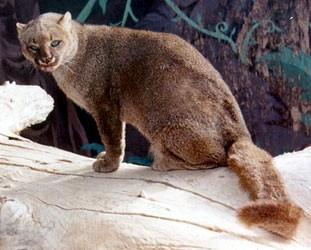Jaguarundi: (11, 11, 305, 235)
